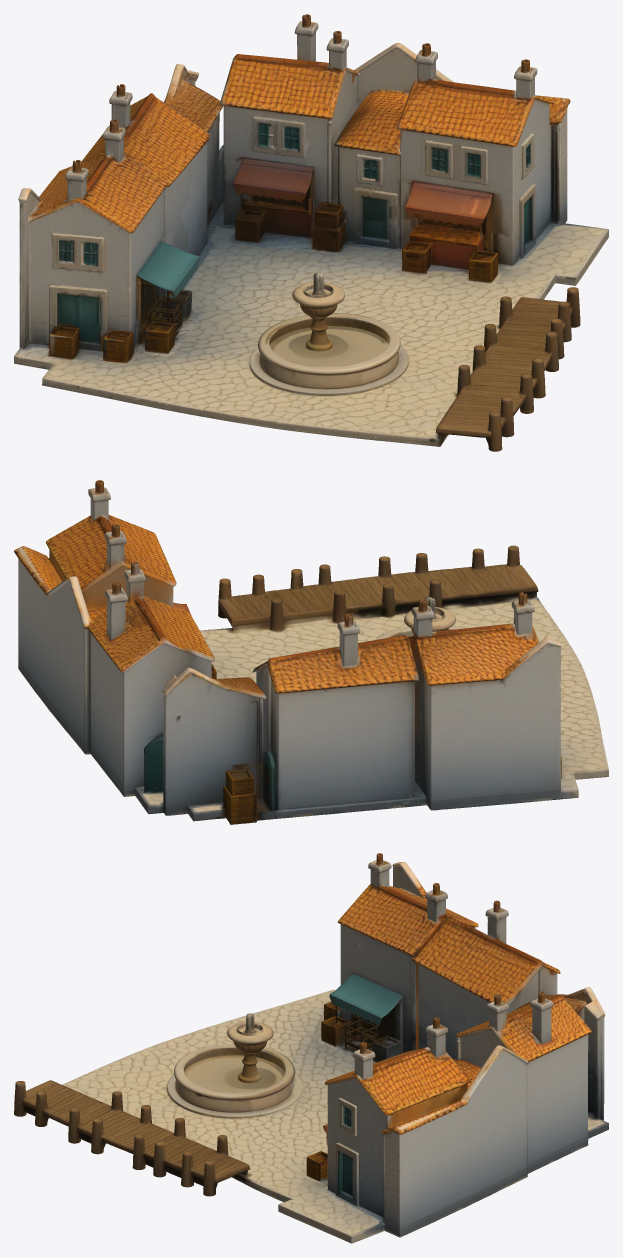
The model's file is harbour-visual.glb.
The picture shows the model from 3 angles, top to bottom: view 1: azimuth 30°, elevation 25°; view 2: azimuth 150°, elevation 25°; view 3: azimuth 270°, elevation 25°; orthographic projection. The views are drawn at different scales.
Visible parts, largest first — view 1: node_0; view 2: node_0; view 3: node_0.
Boxes of the visible parts, <box> form: node_0: <box>14,14,608,451</box>; node_0: <box>14,480,608,824</box>; node_0: <box>14,853,608,1243</box>.
Bounding box in the file's own units: 1.12 × 0.3529 × 1.13.
Materials: 1 (1 with a texture image).
